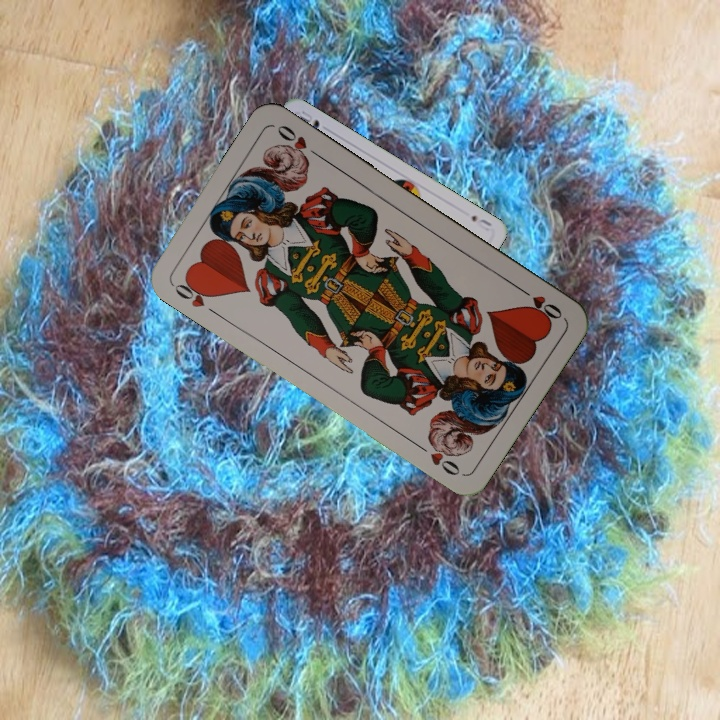HO: (514, 282, 565, 324), (168, 273, 217, 310)
SU: (467, 211, 495, 234)
